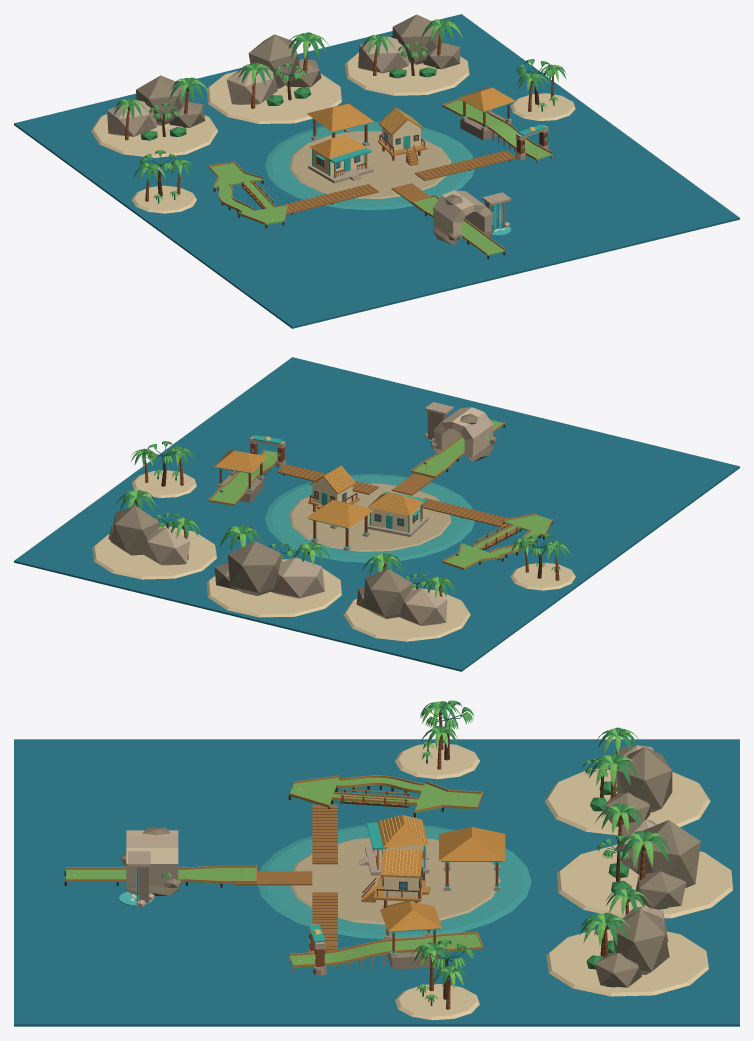
Rendered from district.glb.
3 views of the same model, one above another, from view 1: azimuth 30°, elevation 25°; view 2: azimuth 150°, elevation 25°; view 3: azimuth 270°, elevation 25° (orthographic). The views are drawn at different scales.
Visible parts, largest first — view 1: Tropical_District_Dressing, DistrictScenery_5__Tropical_IslandBackdrop_Standard, DistrictScenery_6__Tropical_IslandBackdrop_Standard, DistrictScenery_4__Tropical_IslandBackdrop_Standard, DistrictScenery_7__Tropical_PalmGrove_Standard, DistrictScenery_8__Tropical_PalmGrove_Standard, DistrictScenery_0__Tropical_BeachBungalow_Standard, WaterfallGrotto_0__Tropical_LagoonGrotto_Standard, LagoonSplit__Tropical_LagoonSplit_Surface, DistrictScenery_1__Tropical_StiltHut_Standard, TikiTerrace__Tropical_TikiTerrace_Surface, DistrictScenery_3__Tropical_PavilionRoof_Standard (+5 smaller); view 2: Tropical_District_Dressing, DistrictScenery_5__Tropical_IslandBackdrop_Standard, DistrictScenery_4__Tropical_IslandBackdrop_Standard, DistrictScenery_6__Tropical_IslandBackdrop_Standard, DistrictScenery_7__Tropical_PalmGrove_Standard, DistrictScenery_8__Tropical_PalmGrove_Standard, WaterfallGrotto_0__Tropical_LagoonGrotto_Standard, DistrictScenery_0__Tropical_BeachBungalow_Standard, LagoonSplit__Tropical_LagoonSplit_Surface, DistrictScenery_1__Tropical_StiltHut_Standard, DistrictScenery_3__Tropical_PavilionRoof_Standard, TikiTerrace__Tropical_TikiTerrace_Surface (+4 smaller); view 3: Tropical_District_Dressing, DistrictScenery_5__Tropical_IslandBackdrop_Standard, DistrictScenery_6__Tropical_IslandBackdrop_Standard, DistrictScenery_4__Tropical_IslandBackdrop_Standard, DistrictScenery_8__Tropical_PalmGrove_Standard, DistrictScenery_7__Tropical_PalmGrove_Standard, LagoonSplit__Tropical_LagoonSplit_Surface, DistrictScenery_1__Tropical_StiltHut_Standard, WaterfallGrotto_0__Tropical_LagoonGrotto_Standard, DistrictScenery_0__Tropical_BeachBungalow_Standard, DistrictScenery_3__Tropical_PavilionRoof_Standard, TikiTerrace__Tropical_TikiTerrace_Surface (+8 smaller).
Boxes of the visible parts, x1=… form: Tropical_District_Dressing: x1=14, y1=14, x2=739, y2=328; DistrictScenery_5__Tropical_IslandBackdrop_Standard: x1=206, y1=32, x2=341, y2=123; DistrictScenery_6__Tropical_IslandBackdrop_Standard: x1=344, y1=14, x2=469, y2=95; DistrictScenery_4__Tropical_IslandBackdrop_Standard: x1=91, y1=75, x2=217, y2=157; DistrictScenery_7__Tropical_PalmGrove_Standard: x1=131, y1=150, x2=196, y2=213; DistrictScenery_8__Tropical_PalmGrove_Standard: x1=510, y1=59, x2=575, y2=120; DistrictScenery_0__Tropical_BeachBungalow_Standard: x1=308, y1=134, x2=373, y2=183; WaterfallGrotto_0__Tropical_LagoonGrotto_Standard: x1=433, y1=190, x2=492, y2=240; LagoonSplit__Tropical_LagoonSplit_Surface: x1=211, y1=163, x2=286, y2=224; DistrictScenery_1__Tropical_StiltHut_Standard: x1=378, y1=107, x2=427, y2=165; TikiTerrace__Tropical_TikiTerrace_Surface: x1=443, y1=100, x2=552, y2=160; DistrictScenery_3__Tropical_PavilionRoof_Standard: x1=307, y1=103, x2=373, y2=132; Tropical_District_Dressing: x1=14, y1=357, x2=739, y2=671; DistrictScenery_5__Tropical_IslandBackdrop_Standard: x1=206, y1=525, x2=341, y2=617; DistrictScenery_4__Tropical_IslandBackdrop_Standard: x1=343, y1=553, x2=470, y2=641; DistrictScenery_6__Tropical_IslandBackdrop_Standard: x1=92, y1=489, x2=216, y2=579; DistrictScenery_7__Tropical_PalmGrove_Standard: x1=510, y1=533, x2=575, y2=590; DistrictScenery_8__Tropical_PalmGrove_Standard: x1=130, y1=441, x2=196, y2=497; WaterfallGrotto_0__Tropical_LagoonGrotto_Standard: x1=430, y1=407, x2=496, y2=457; DistrictScenery_0__Tropical_BeachBungalow_Standard: x1=367, y1=491, x2=428, y2=536; LagoonSplit__Tropical_LagoonSplit_Surface: x1=443, y1=515, x2=551, y2=569; DistrictScenery_1__Tropical_StiltHut_Standard: x1=308, y1=465, x2=359, y2=511; DistrictScenery_3__Tropical_PavilionRoof_Standard: x1=307, y1=499, x2=373, y2=528; TikiTerrace__Tropical_TikiTerrace_Surface: x1=209, y1=450, x2=277, y2=505; Tropical_District_Dressing: x1=14, y1=739, x2=739, y2=1026; DistrictScenery_5__Tropical_IslandBackdrop_Standard: x1=556, y1=803, x2=732, y2=918; DistrictScenery_6__Tropical_IslandBackdrop_Standard: x1=546, y1=888, x2=708, y2=996; DistrictScenery_4__Tropical_IslandBackdrop_Standard: x1=544, y1=727, x2=710, y2=835; DistrictScenery_8__Tropical_PalmGrove_Standard: x1=395, y1=939, x2=479, y2=1020; DistrictScenery_7__Tropical_PalmGrove_Standard: x1=395, y1=700, x2=479, y2=779; LagoonSplit__Tropical_LagoonSplit_Surface: x1=289, y1=777, x2=481, y2=812; DistrictScenery_1__Tropical_StiltHut_Standard: x1=361, y1=848, x2=430, y2=908; WaterfallGrotto_0__Tropical_LagoonGrotto_Standard: x1=120, y1=827, x2=181, y2=887; DistrictScenery_0__Tropical_BeachBungalow_Standard: x1=359, y1=815, x2=429, y2=875; DistrictScenery_3__Tropical_PavilionRoof_Standard: x1=439, y1=827, x2=505, y2=862; TikiTerrace__Tropical_TikiTerrace_Surface: x1=289, y1=934, x2=481, y2=967.
Size of what is drawn, in the model's own units: 78 by 9.72 by 84.
